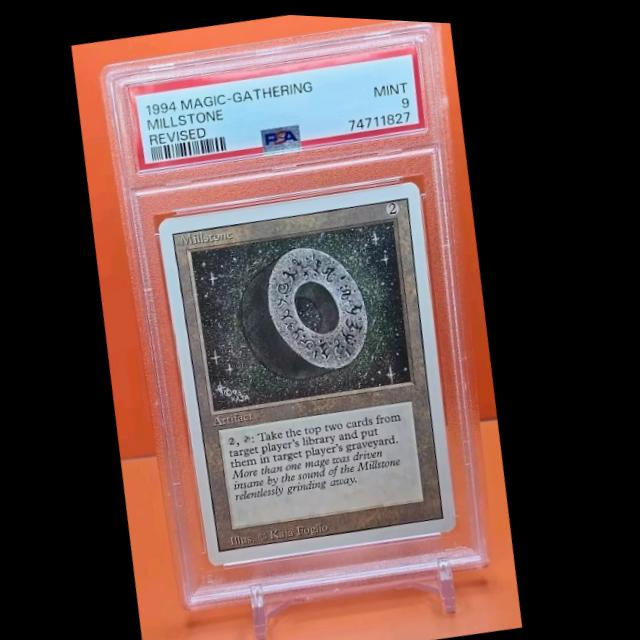card: (159, 175, 465, 565)
psa_label: (126, 39, 427, 171)
psa_slab: (98, 16, 499, 612)
